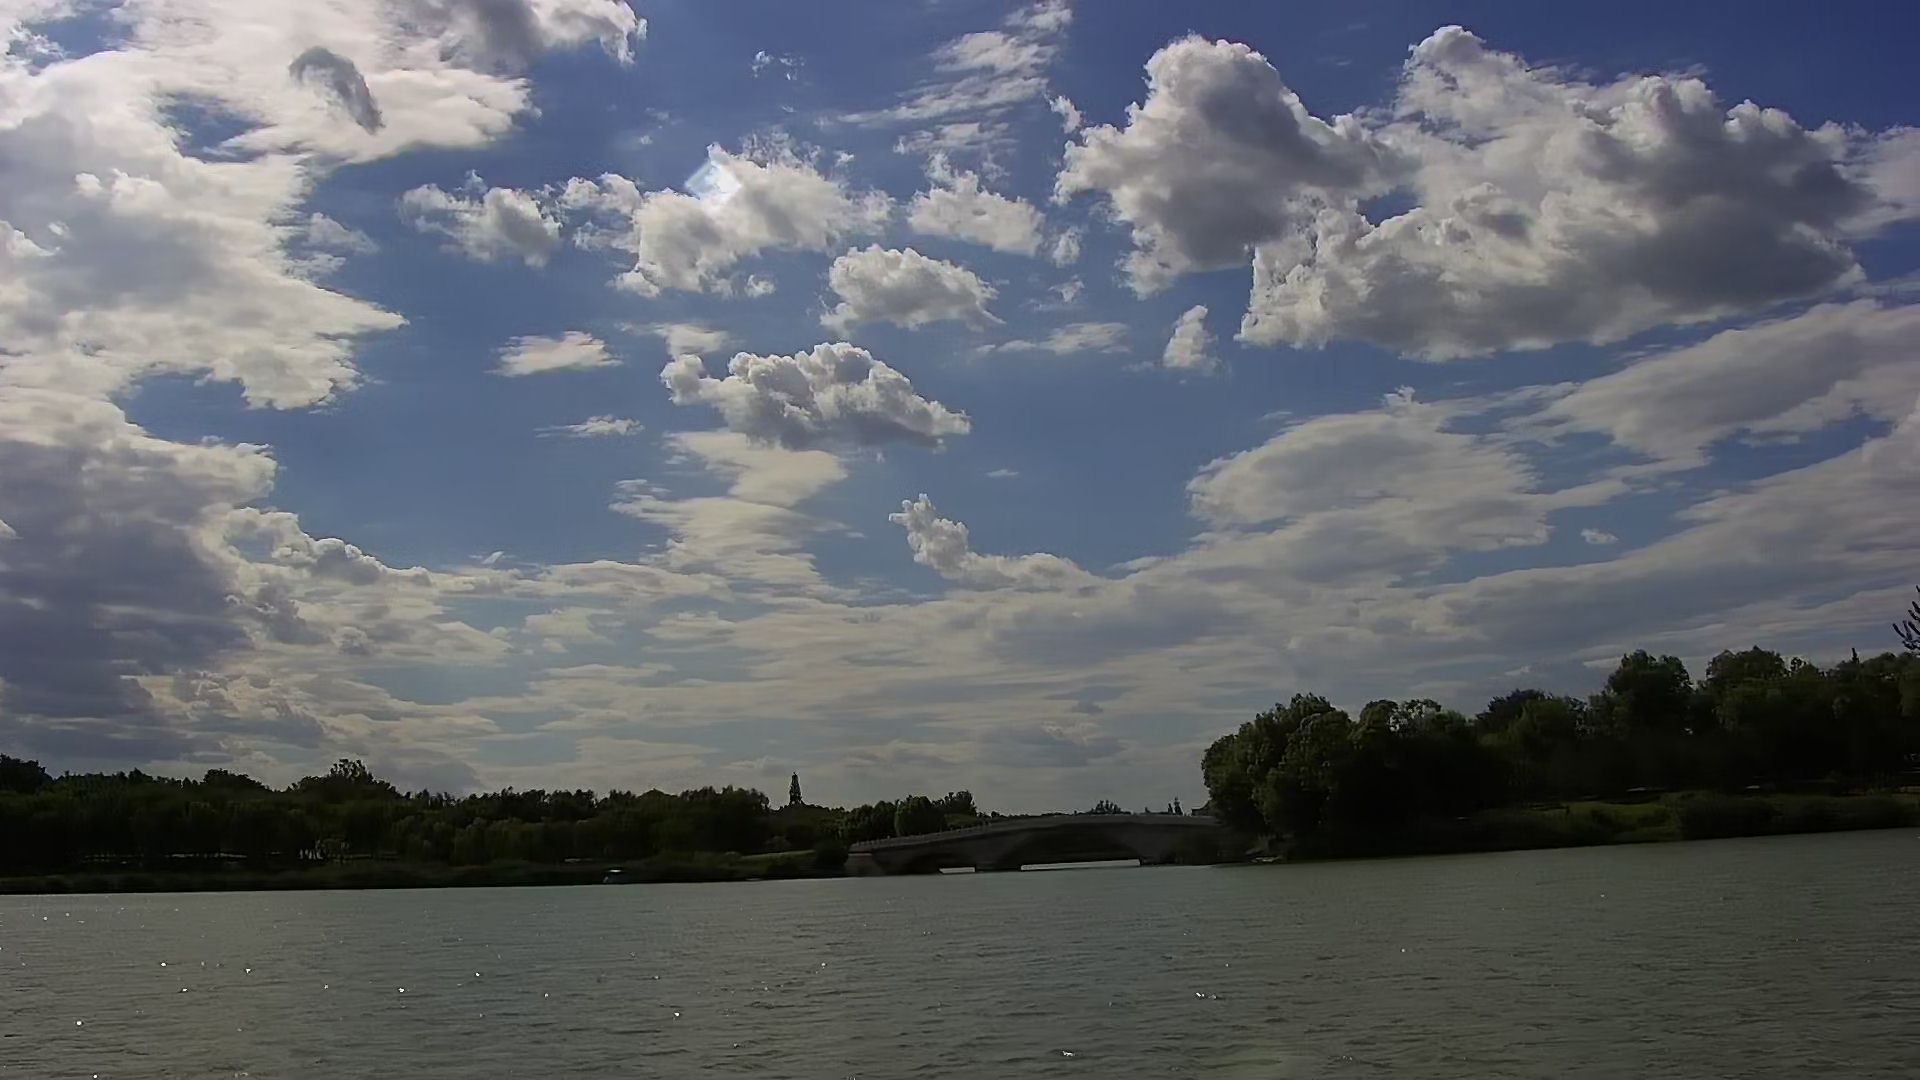bridge: (856, 808, 1209, 869)
